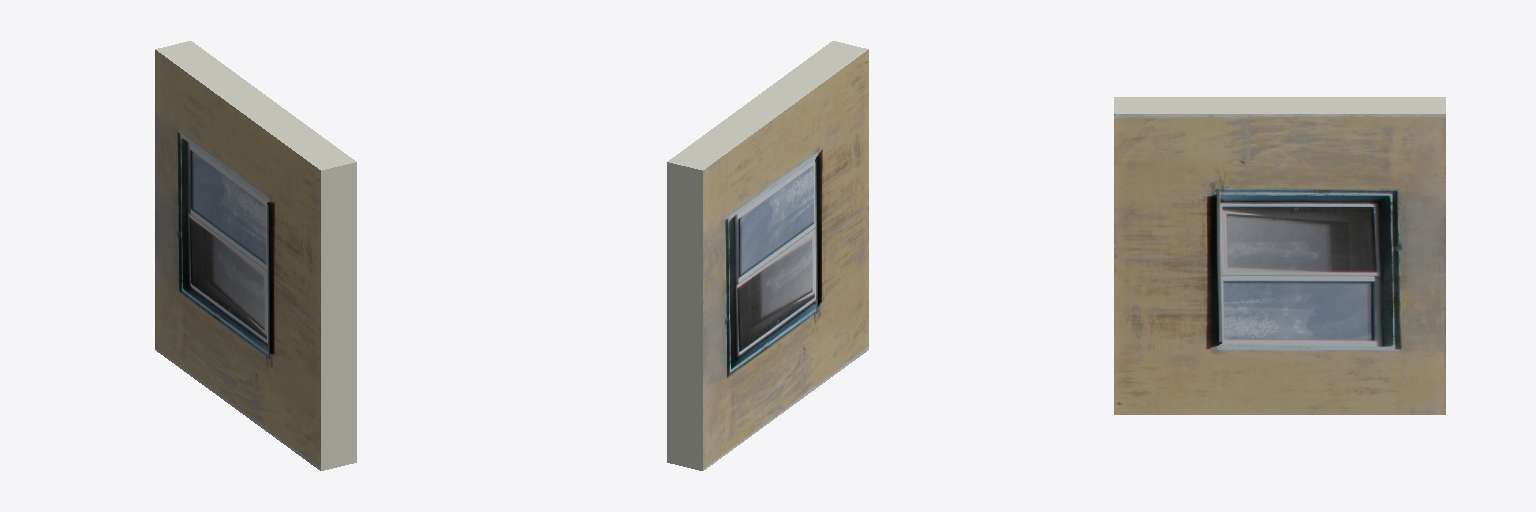
3 views of the same model, side by side, from view 1: azimuth 30°, elevation 25°; view 2: azimuth 150°, elevation 25°; view 3: azimuth 270°, elevation 25° (orthographic).
Parts seen in each view (by area): view 1: Box001; view 2: Box001; view 3: Box001.
Part boxes in pixels (left/top/right/bottom): Box001: left=155, top=41, right=356, bottom=470; Box001: left=667, top=41, right=868, bottom=470; Box001: left=1114, top=97, right=1445, bottom=414.
Bounding box in the file's own units: 25 × 200 × 200.
Materials: 1 (1 with a texture image).